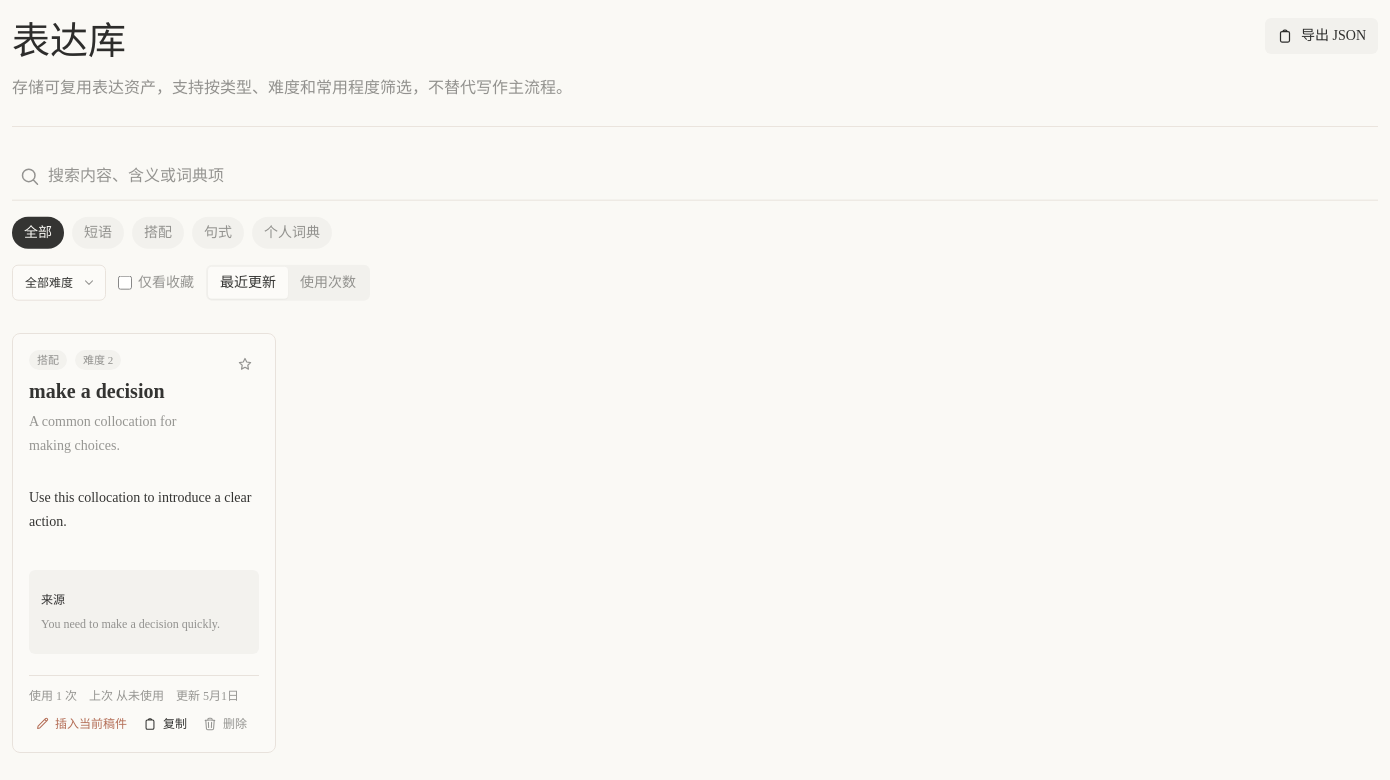
LearningLibraryPanel › opens the full source inside the card without changing the card footprint
The image size is (1390, 780).
Click the button "来源 You need to make a decision quickly.": point(144, 609) [29,567,259,651]
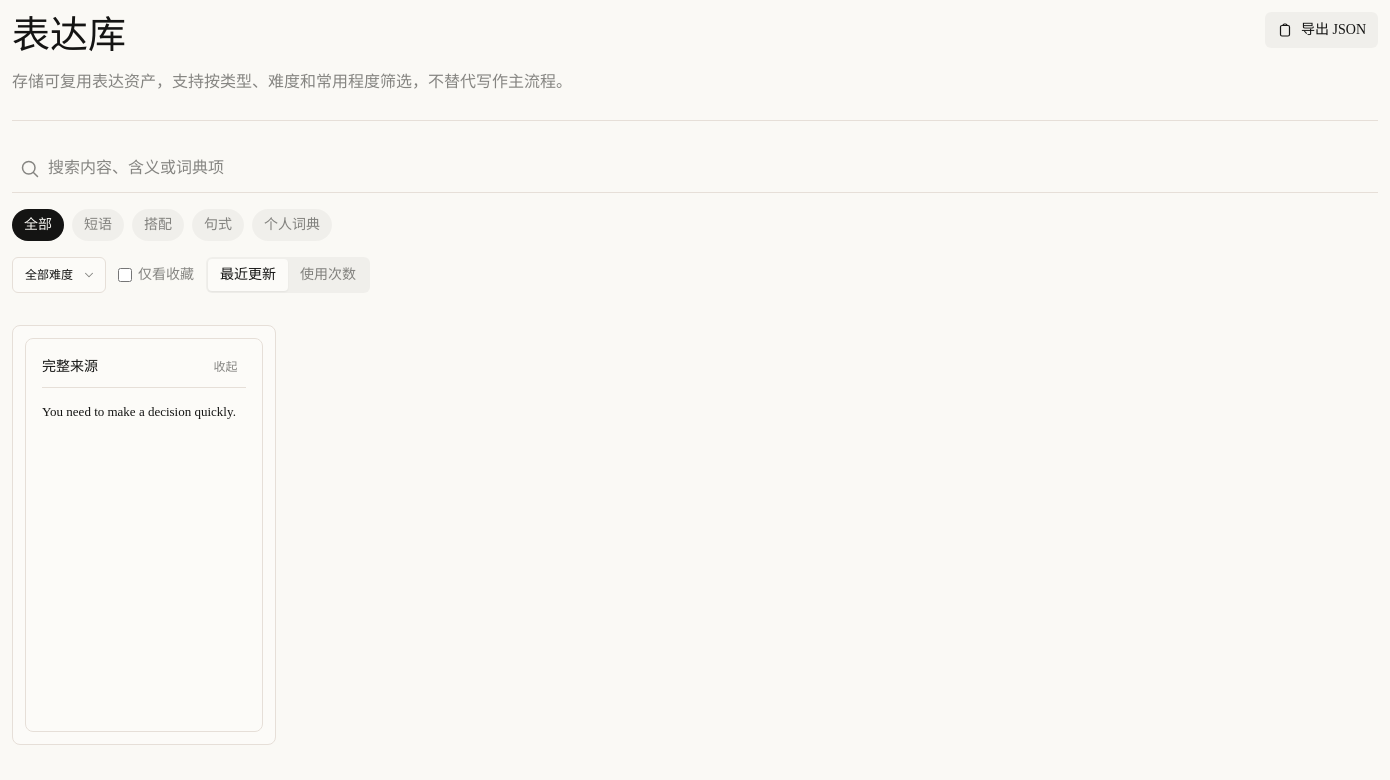
Check: the element showing "完整来源 收起 You need to make a decision quickly." is shown, box [25,338,263,732]
